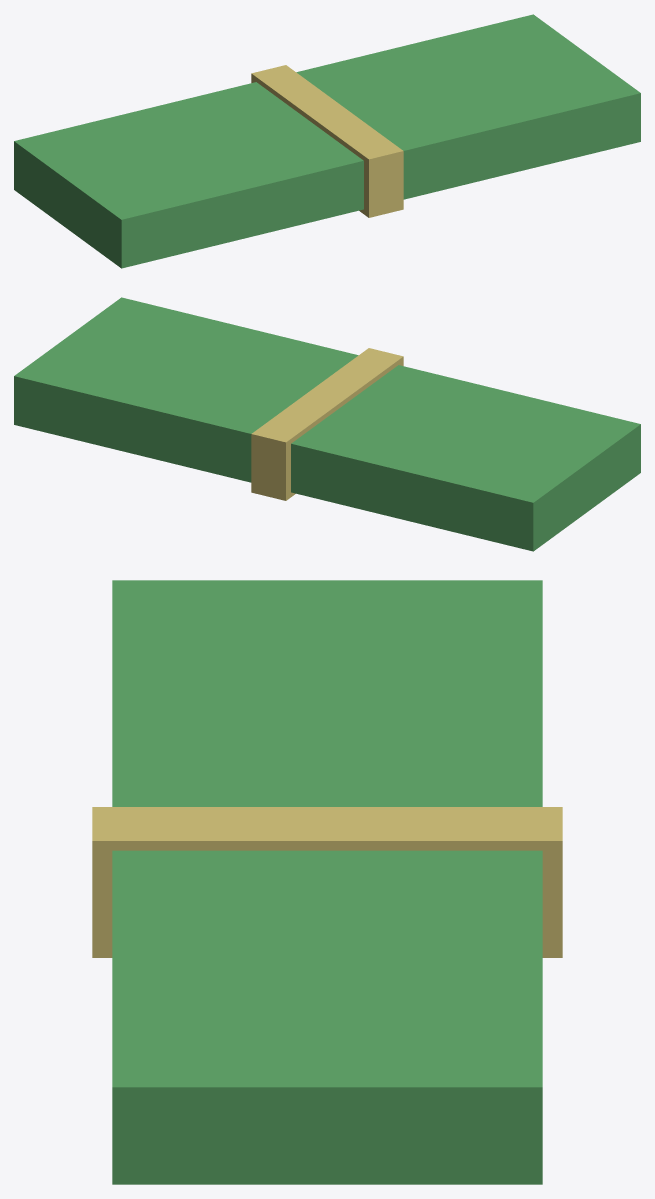
Rendered from SmallPlank.fbx.
3 views of the same model, one above another, from view 1: azimuth 30°, elevation 25°; view 2: azimuth 150°, elevation 25°; view 3: azimuth 270°, elevation 25° (orthographic). The views are drawn at different scales.
Visible parts, largest first — view 1: SmallPlank; view 2: SmallPlank; view 3: SmallPlank.
Part boxes in pixels (bbox=[...]): SmallPlank: bbox=[14, 14, 640, 268]; SmallPlank: bbox=[14, 297, 640, 551]; SmallPlank: bbox=[92, 580, 562, 1184].
Size of the model in its own units: 6.69 by 0.7214 by 2.62.
